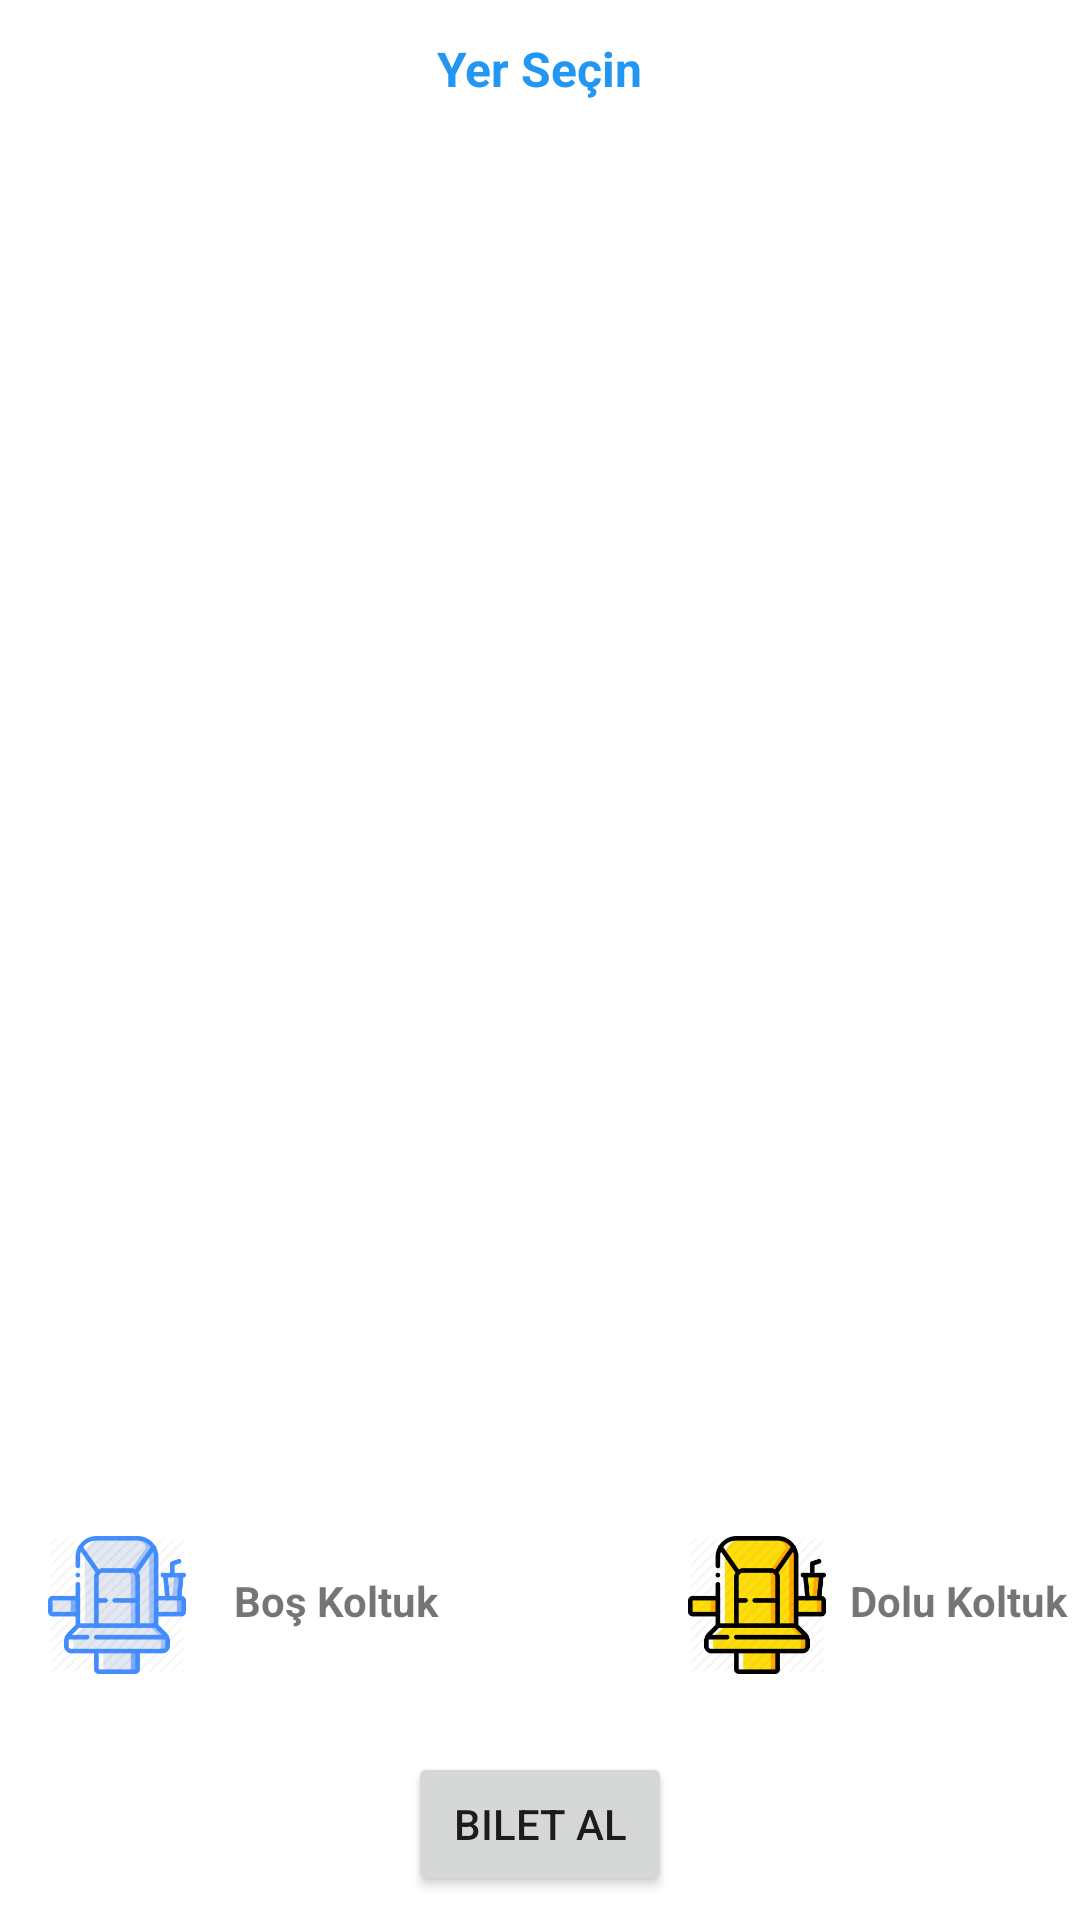

Locate icon controls on the screen. Image size 1080px x 1920px, boxes as region(x1, y1, x2, y2).
boskoltuk: region(48, 1536, 186, 1674)
